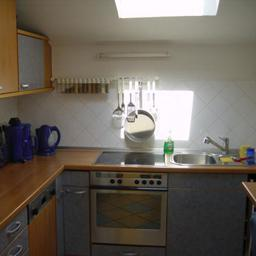Electrodomestico: (92, 168, 168, 254)
Lavaplatos: (173, 131, 247, 168)
